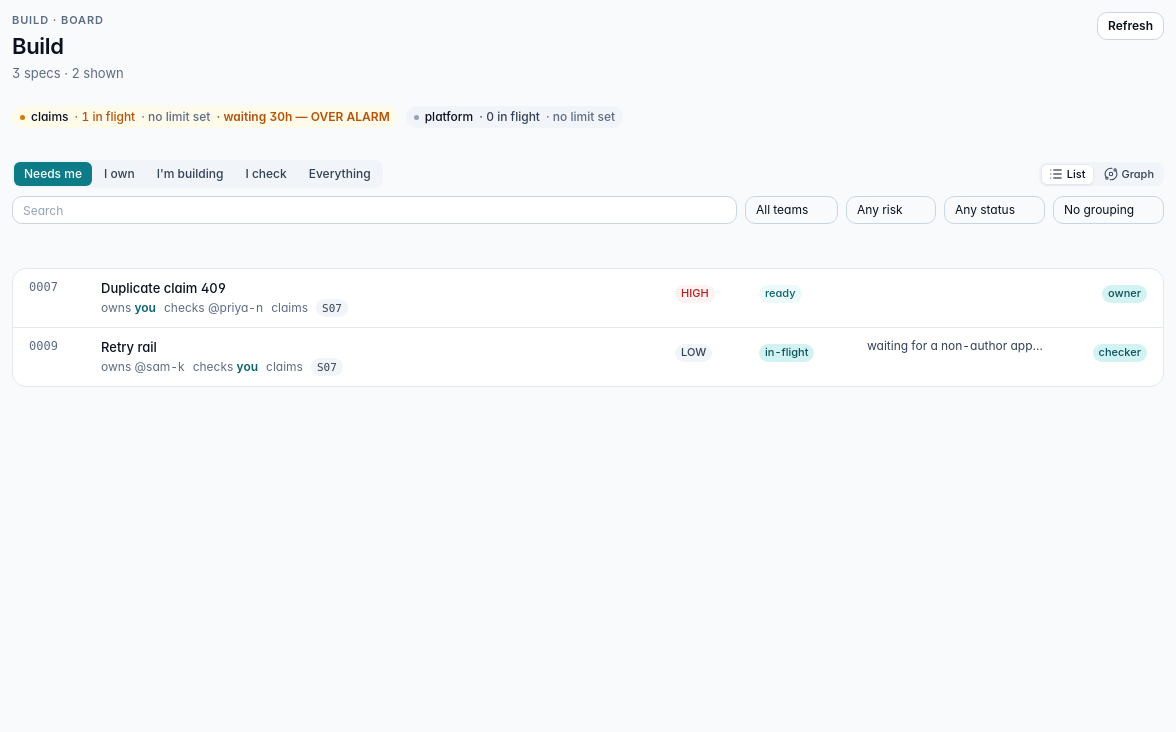
Test case: BuildBoard: one read, many views › the hover card shows the row's own facts — "you" for the signed-in person, the PR sentence, the wait as reported
Expected: the heading "Build" is shown, [12, 33, 64, 59]
Click the button "Everything".
click(340, 174)  # box [299, 162, 381, 186]
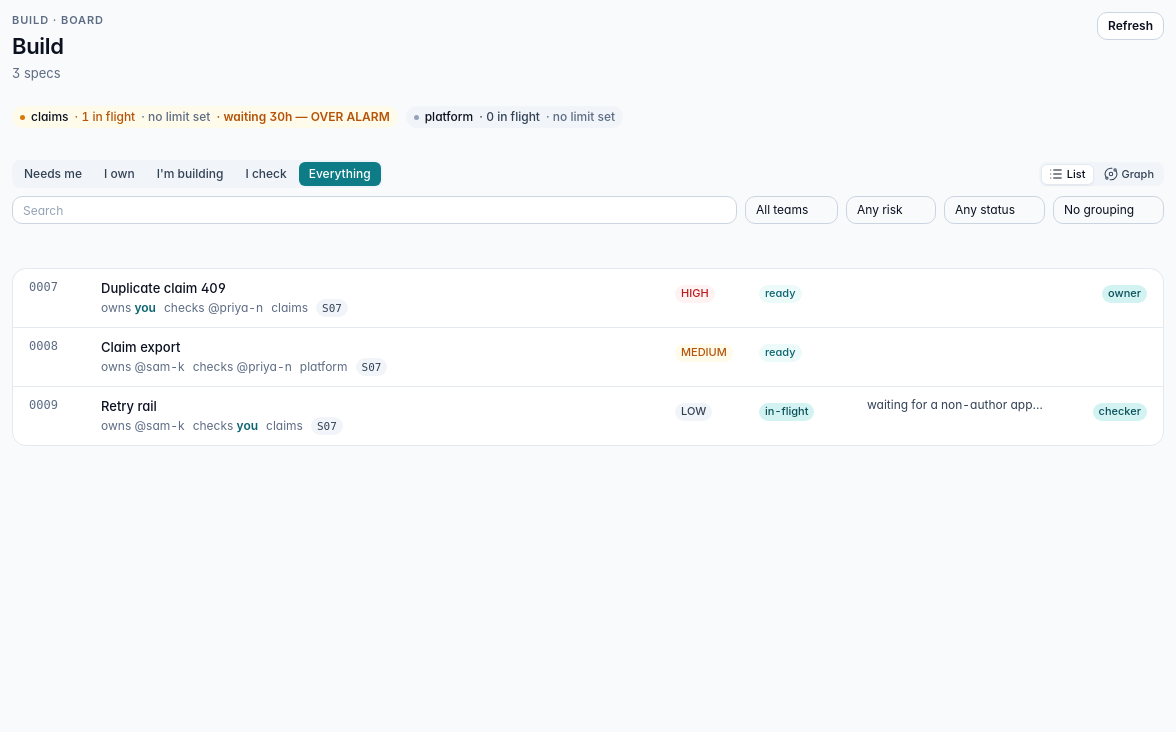
Hover over the element that starts with "Retry rail".
mouse_move(588, 416)  # box [13, 387, 1163, 445]
Wait 400 ms
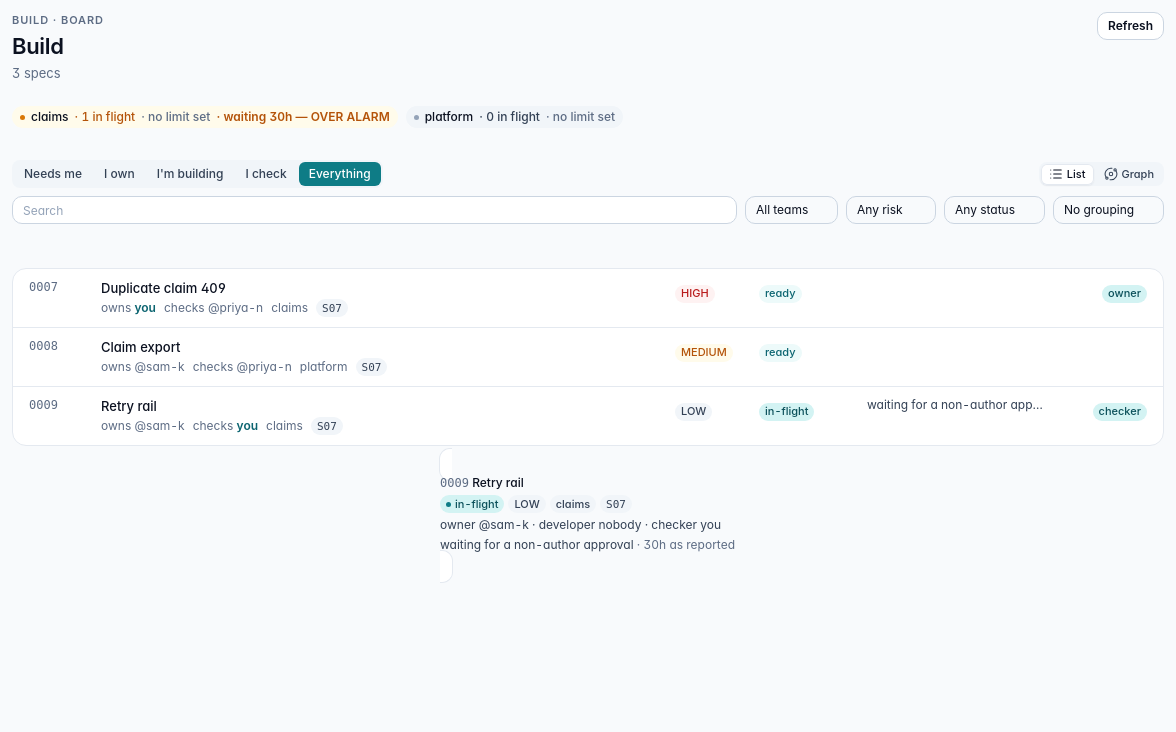
Now the text "owner @sam-k · developer nobody · checker you" is shown, box [440, 517, 735, 533]
Now the text "waiting for a non-author approval · 30h as reported" is shown, box [440, 537, 735, 553]
Now the text "· 30h as reported" is shown, box [634, 537, 735, 552]
